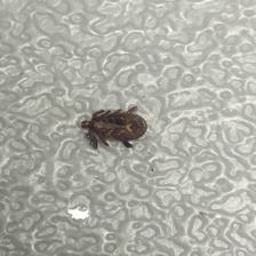Dermacentor variabilis: (78, 107, 150, 151)
